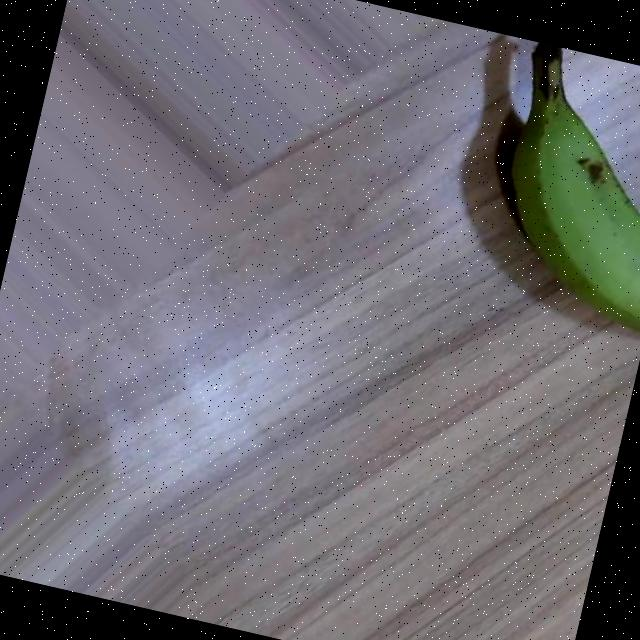Unripe: (478, 41, 640, 331)
